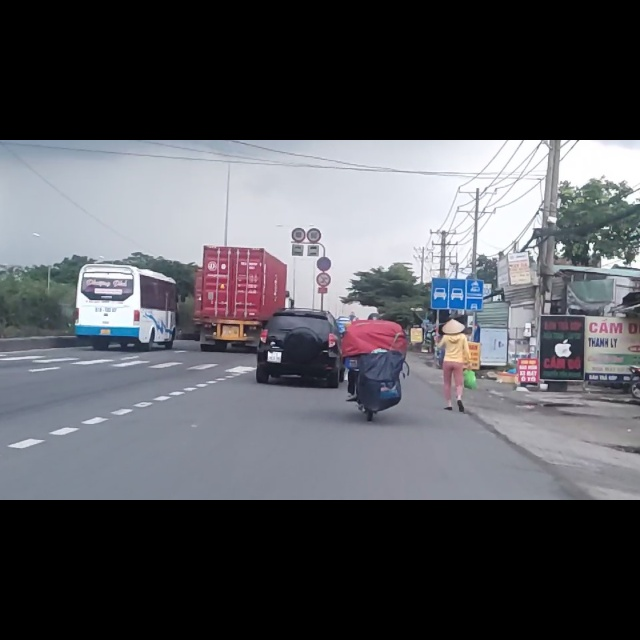bien_cam: (431, 244, 484, 305), (316, 207, 332, 233), (292, 156, 305, 181), (317, 237, 331, 260), (307, 158, 321, 181)
